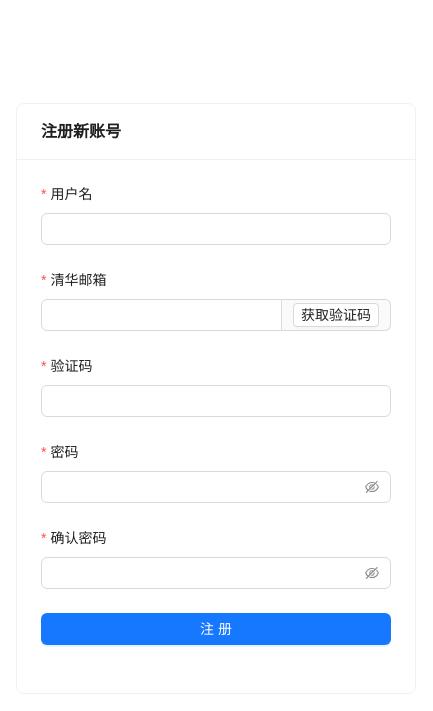
Test: Register Component › should send verification code on valid email
Type "test@mails.tsinghua.edu.cn" into the field labelled "清华邮箱" at (162, 315), box 41,299 -> 282,331
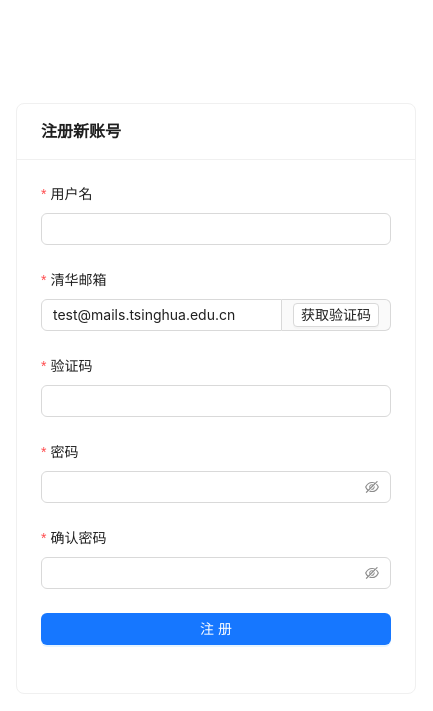
Click the button "获取验证码" at (336, 315), box 293,303 -> 379,327
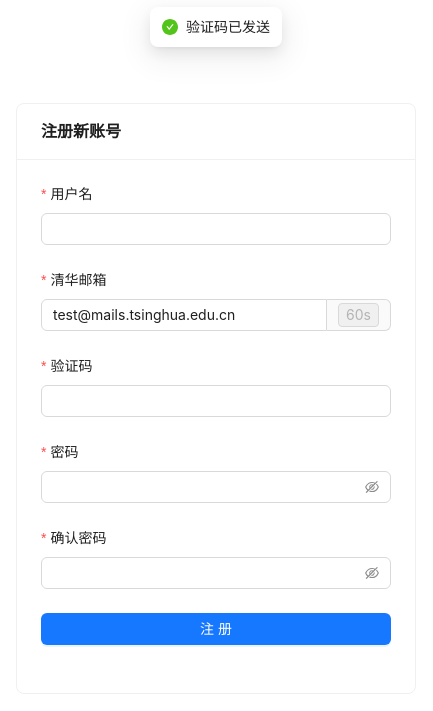
Now the text "验证码已发送" is shown, box 186,16 -> 270,38
